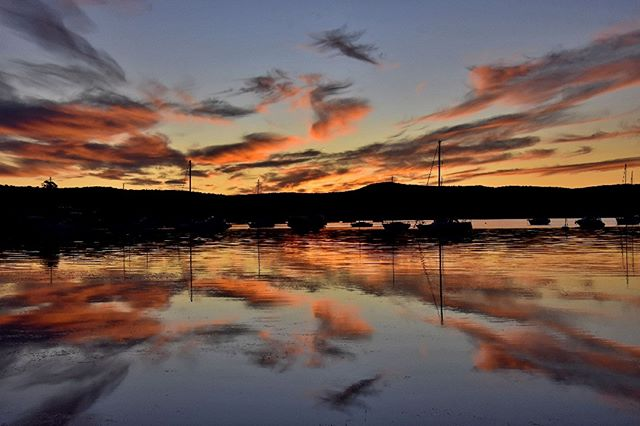river: (4, 234, 640, 426)
sky: (1, 1, 640, 170)
